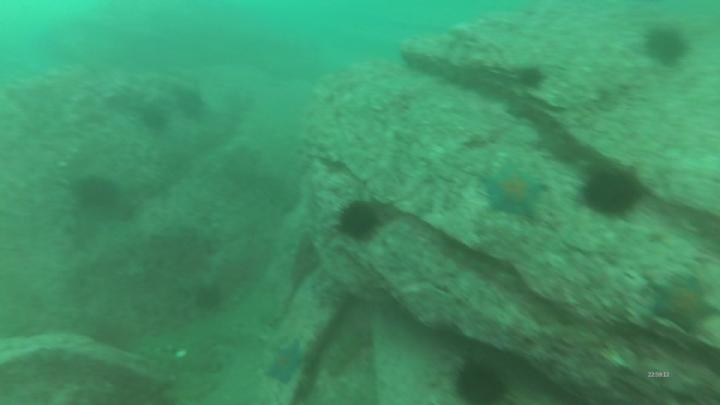echinus: (582, 171, 642, 212), (460, 361, 501, 405), (341, 202, 378, 242), (74, 179, 119, 211), (645, 30, 682, 67), (516, 67, 544, 91)
starfish: (647, 274, 717, 334), (485, 166, 544, 219), (264, 344, 304, 380)
